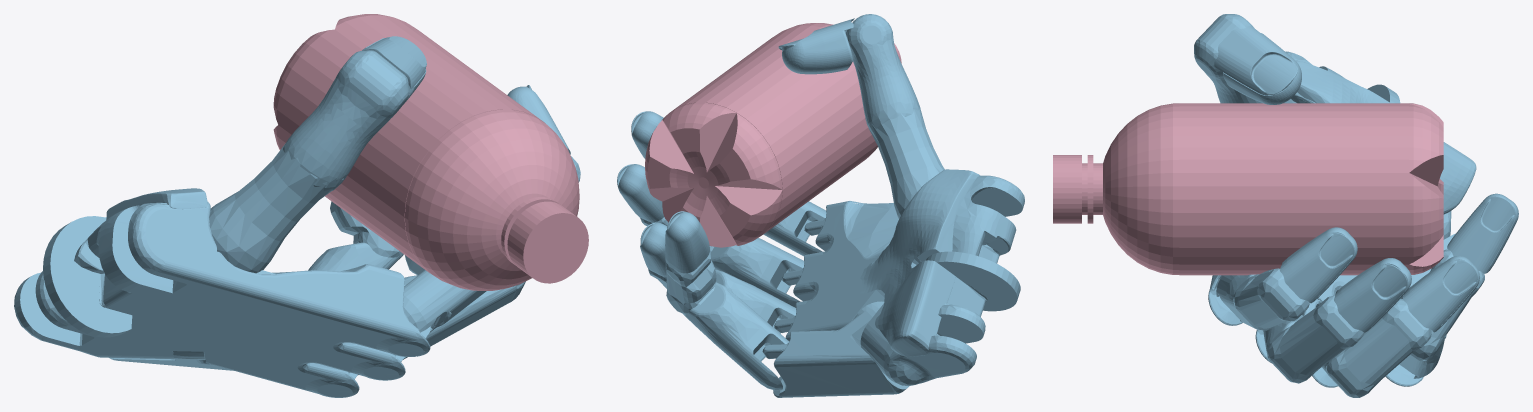
File: ShadowHand_contactdb+water_bottle_mesh.glb
3 views of the same model, side by side, from view 1: azimuth 30°, elevation 25°; view 2: azimuth 150°, elevation 25°; view 3: azimuth 270°, elevation 25° (orthographic). The views are drawn at different scales.
Parts seen in each view (by area): view 1: world; view 2: world; view 3: world.
Part boxes in pixels (bbox=[...]): world: bbox=[14, 14, 588, 397]; world: bbox=[617, 14, 1024, 397]; world: bbox=[1053, 14, 1518, 397].
Size of the model in its own units: 0.1794 by 0.1397 by 0.1628.
